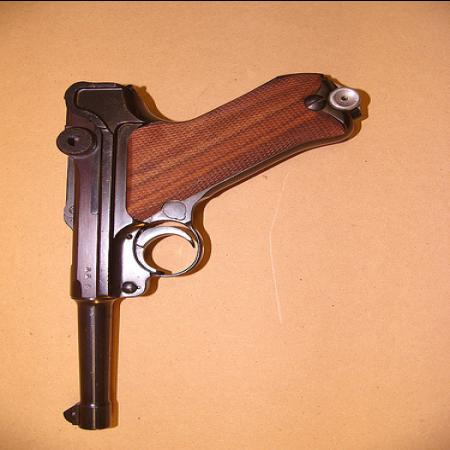Pistol: (54, 69, 360, 430)
